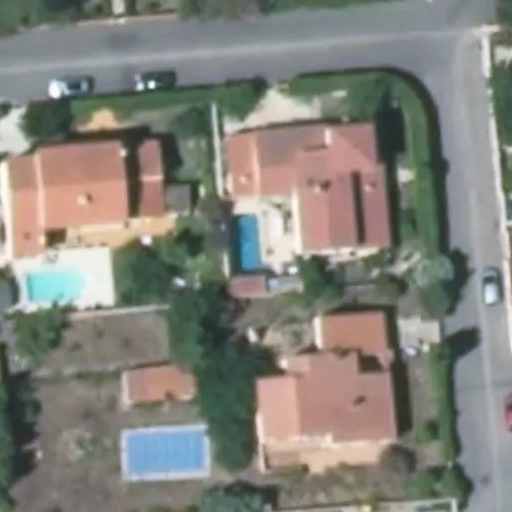pool: (233, 213, 278, 272)
